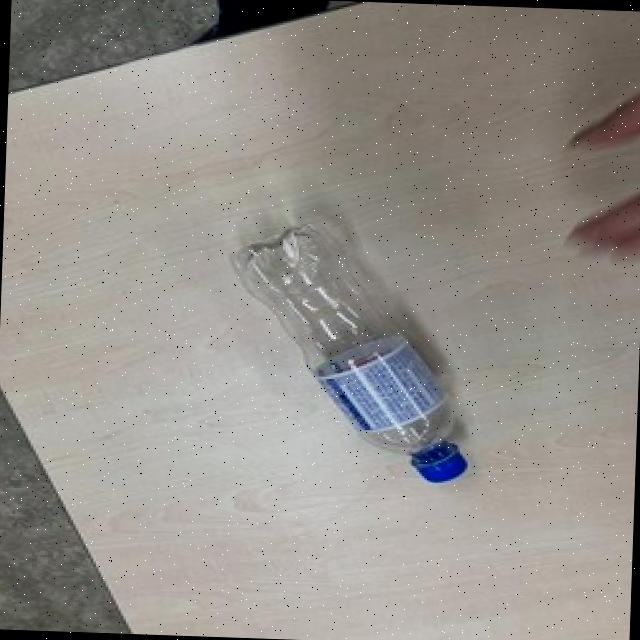bottle: (224, 206, 480, 492)
cap: (411, 446, 471, 486)
label: (316, 340, 468, 420)
